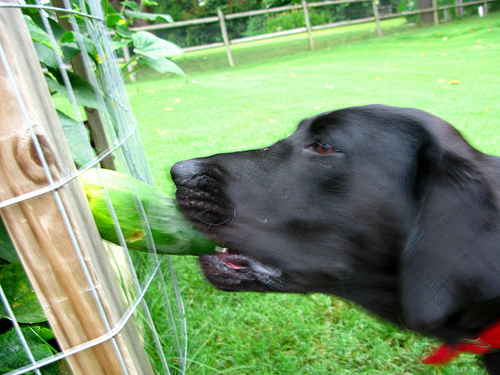cucumber: (75, 166, 229, 257)
